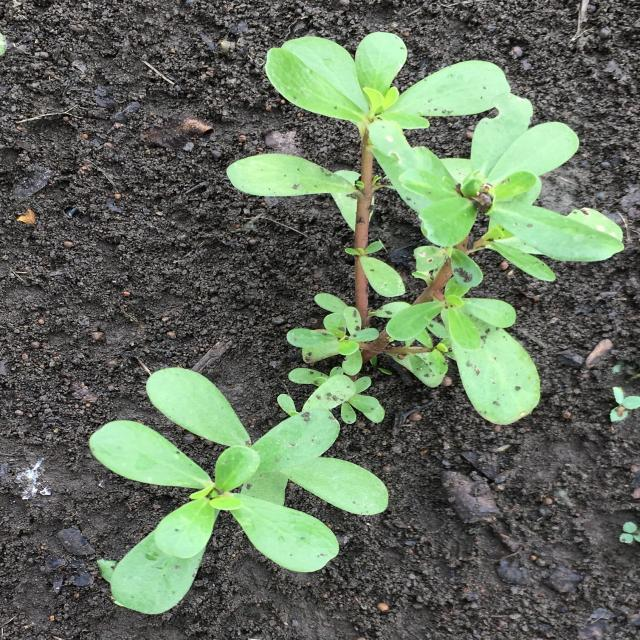Purslane: (88, 32, 625, 614)
